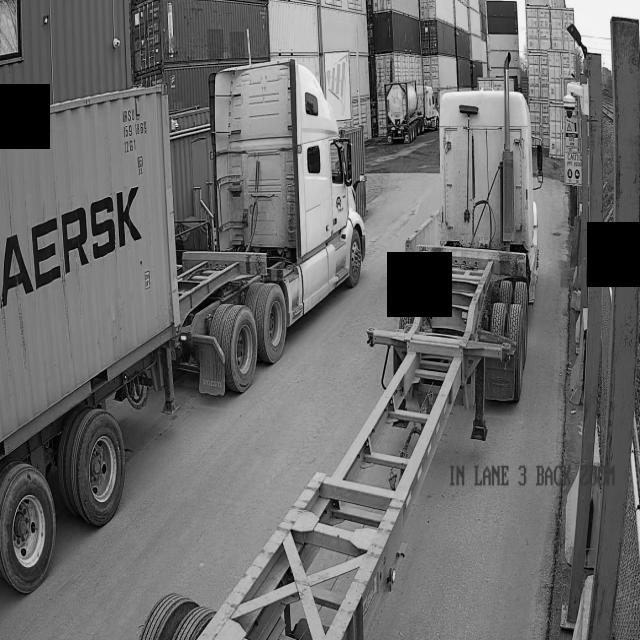container_company_logo: (0, 187, 141, 307)
container_number: (118, 106, 151, 178)
truck_with_container: (0, 58, 366, 592), (0, 218, 62, 307), (90, 191, 141, 258), (60, 209, 89, 273)
truck_without_container: (140, 82, 543, 640)
